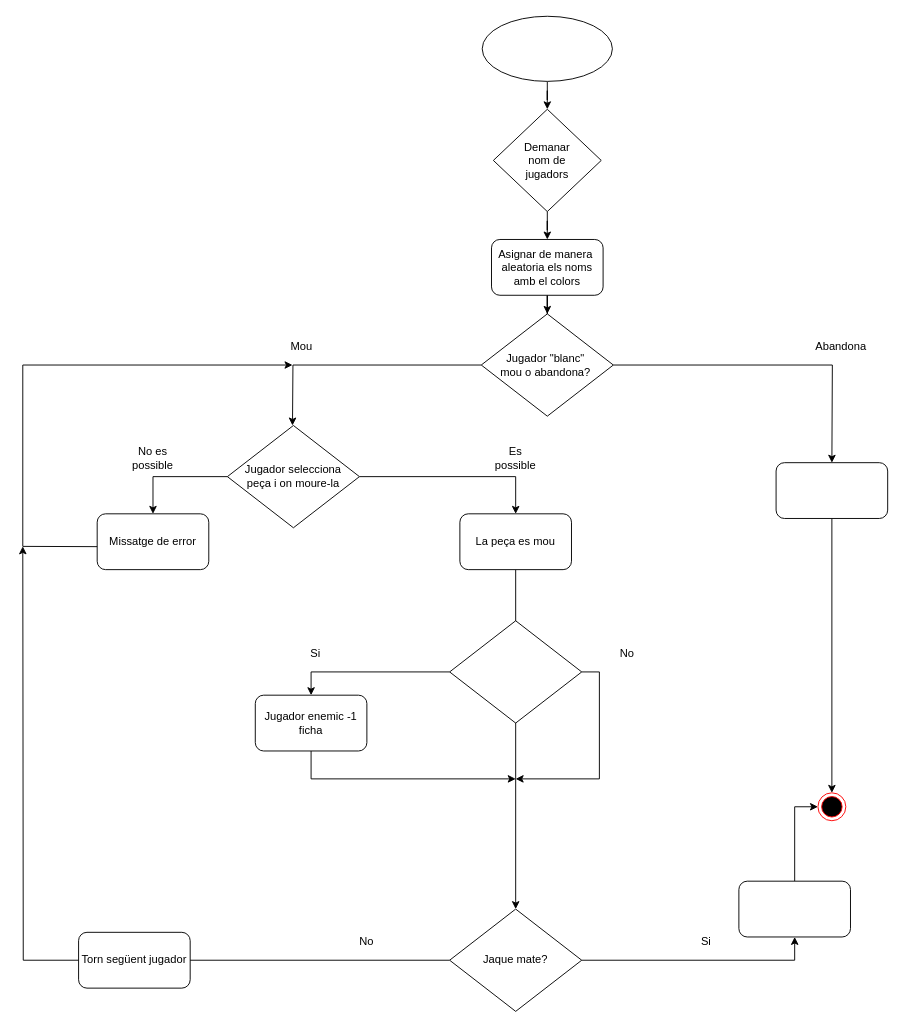
The diagram is 904 pixels wide and 1028 high, and some of its shapes have lost their labels. The box of each missing label's shape, as (x1, y1, x2, y2) in pixels:
Has abandonat (perds): (775, 462, 888, 518)
Inici: (481, 15, 612, 81)
La partida acaba (guanyes): (738, 880, 850, 937)
Menjes alguna ficha rival?: (449, 620, 582, 723)
